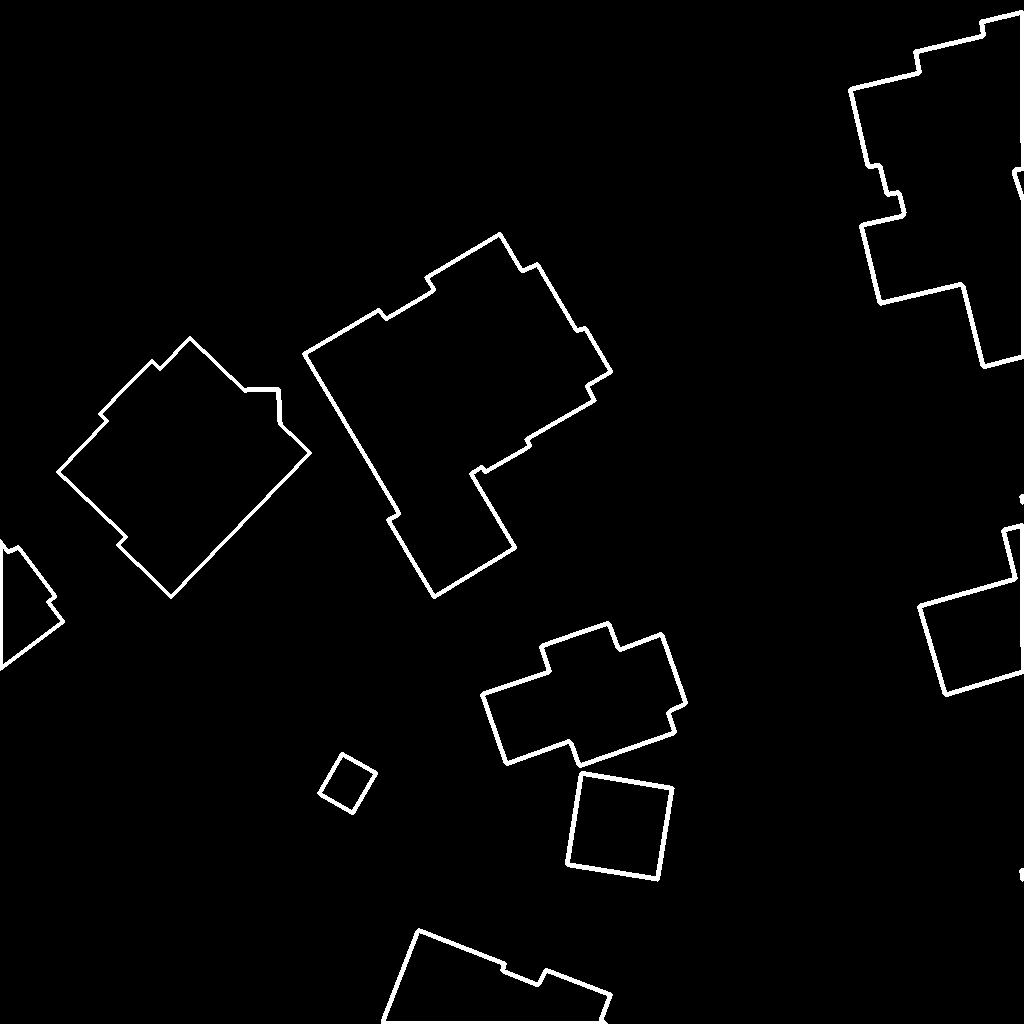building: (304, 234, 612, 598), (58, 338, 311, 598), (850, 12, 1024, 368), (482, 623, 687, 767), (383, 930, 612, 1024), (919, 496, 1024, 696), (567, 773, 673, 880), (0, 541, 64, 670), (319, 754, 377, 814), (1021, 870, 1024, 884)
